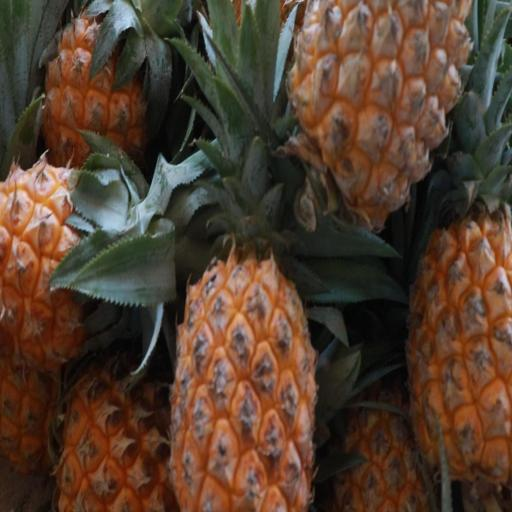Pineapple - v8 v1: (283, 0, 478, 257), (166, 190, 322, 508), (402, 151, 512, 512), (0, 156, 146, 384), (50, 347, 202, 512), (41, 0, 162, 191)
